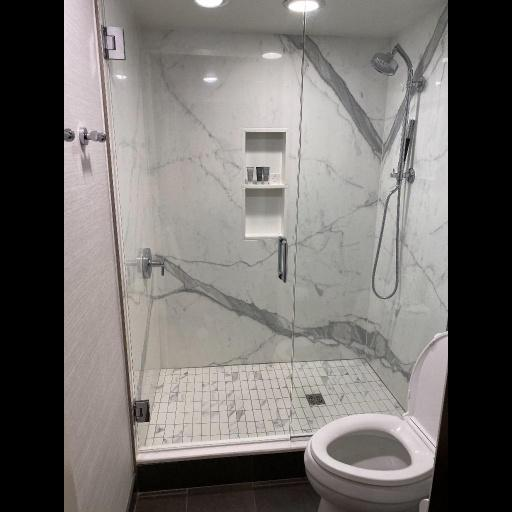clean shower: (94, 7, 451, 439)
clean_toilet: (305, 326, 446, 512)
